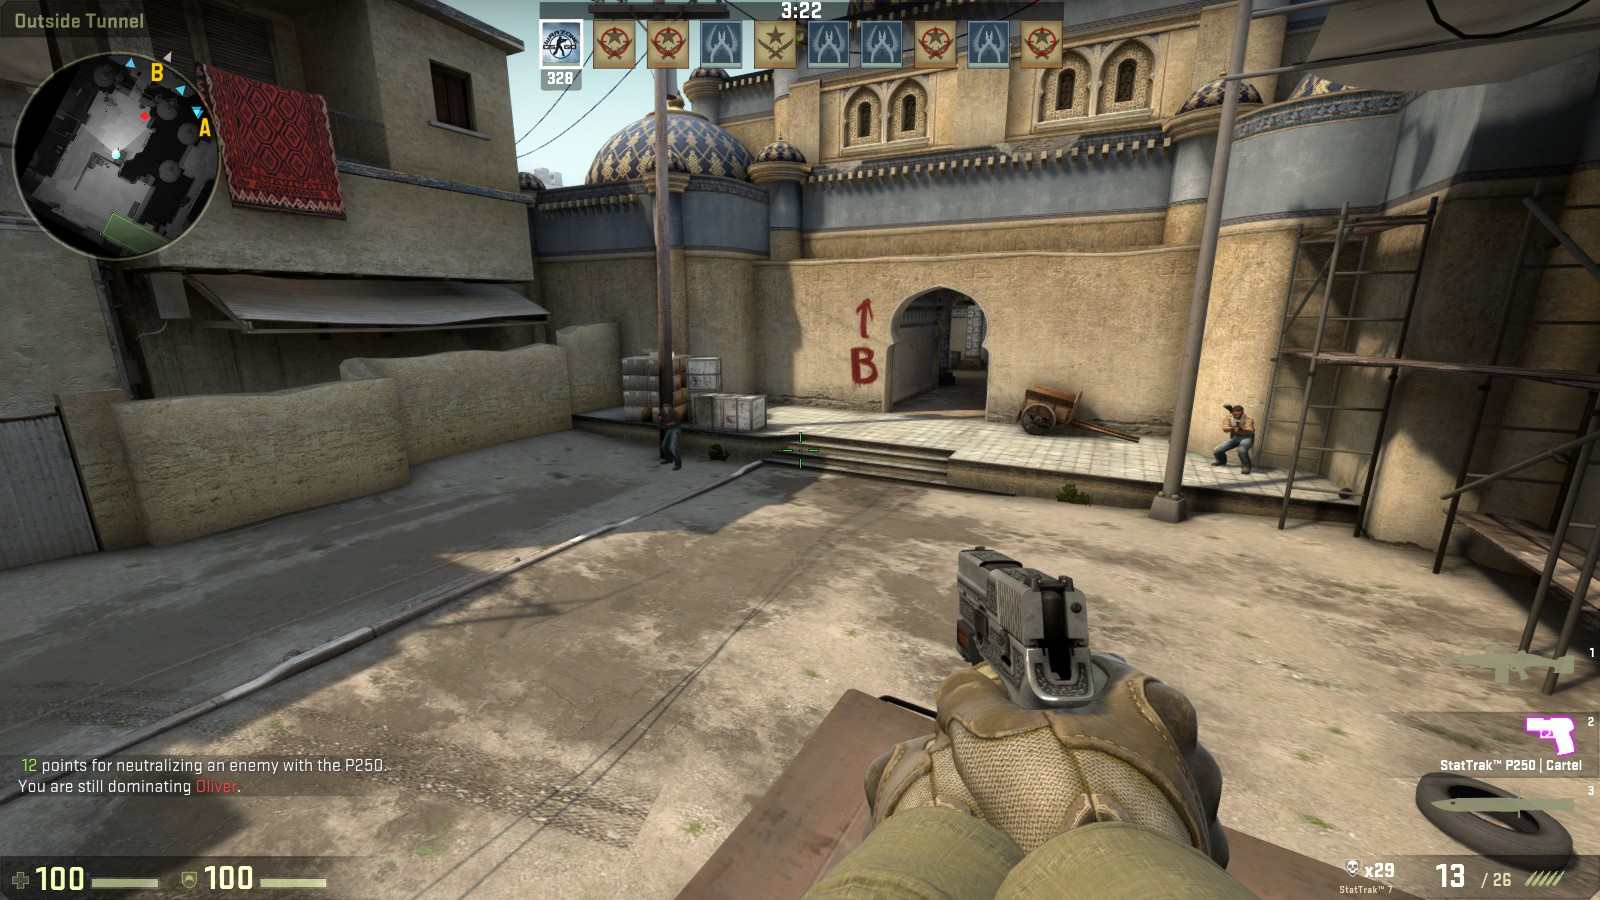t: (1216, 402, 1256, 473), (656, 397, 684, 474)
th: (1227, 401, 1248, 423), (662, 401, 674, 416)
